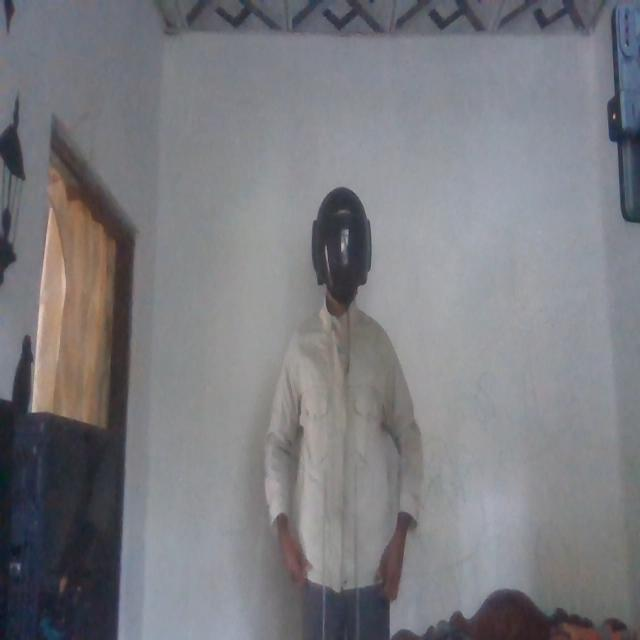Helmet_Wearer: (300, 175, 379, 332)
Jacket_Wearer: (262, 310, 423, 587)
Person: (265, 178, 420, 640)
